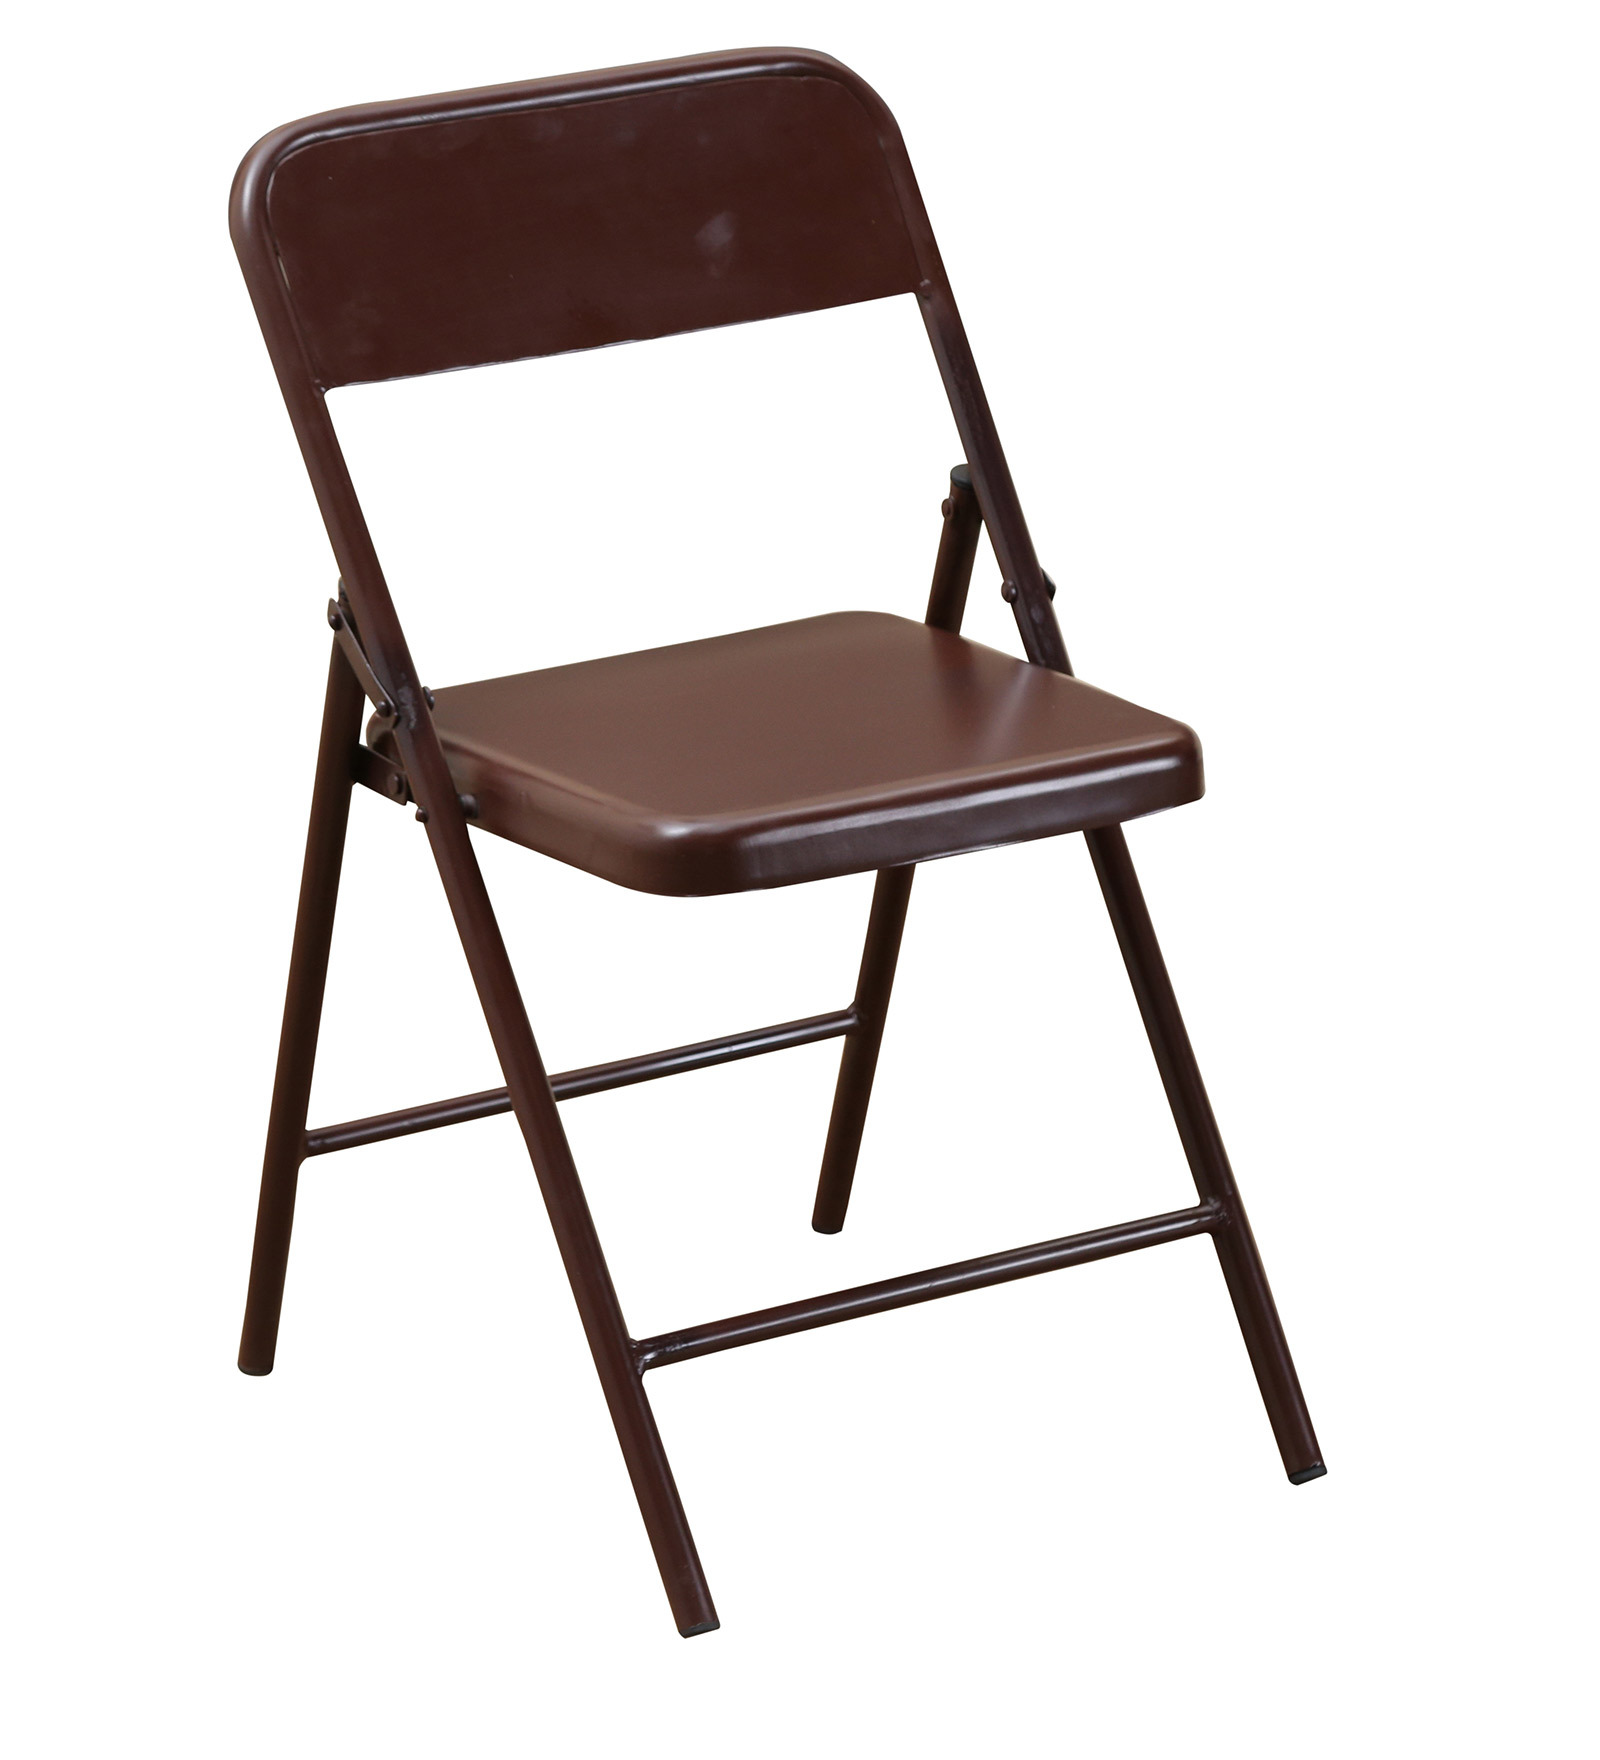Kell Folding Chair in Brown Color by Bohemiana: (169, 20, 1398, 1663)
